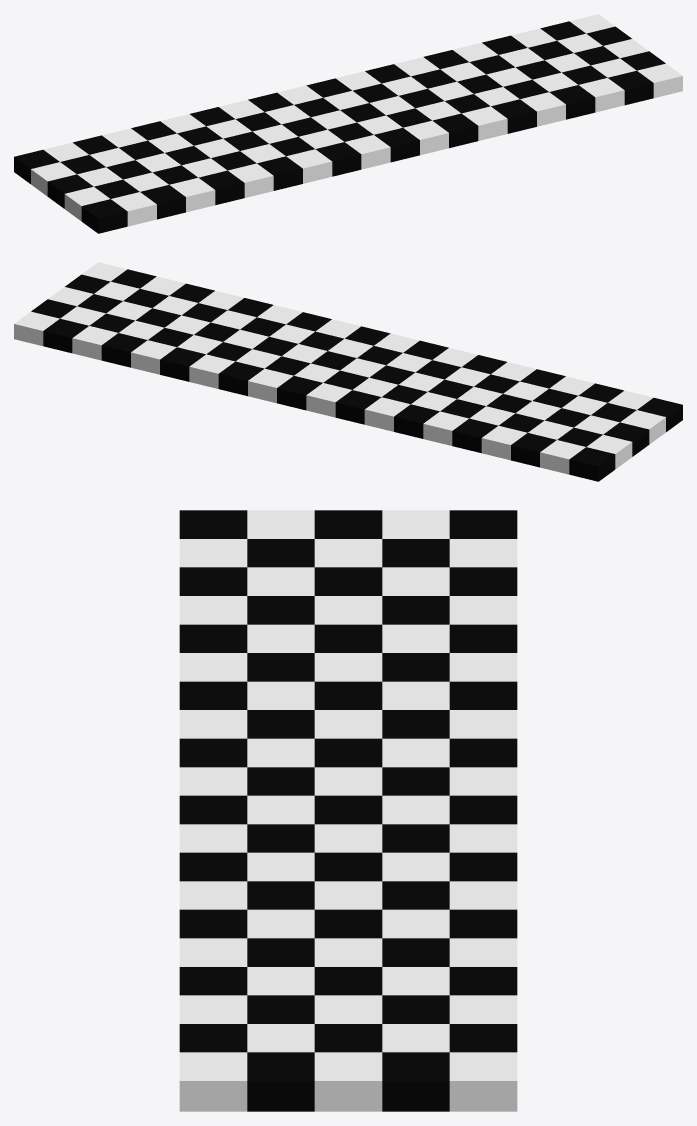
Rendered from finish.obj.
3 views of the same model, one above another, from view 1: azimuth 30°, elevation 25°; view 2: azimuth 150°, elevation 25°; view 3: azimuth 270°, elevation 25° (orthographic). The views are drawn at different scales.
Size of the model in its own units: 4 by 0.1 by 1.
Materials: 1 (1 with a texture image).
